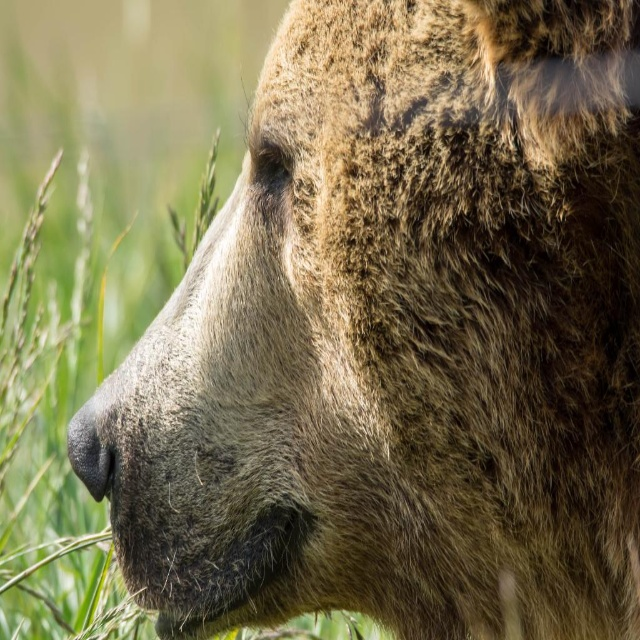Brown bear: (66, 0, 640, 639)
